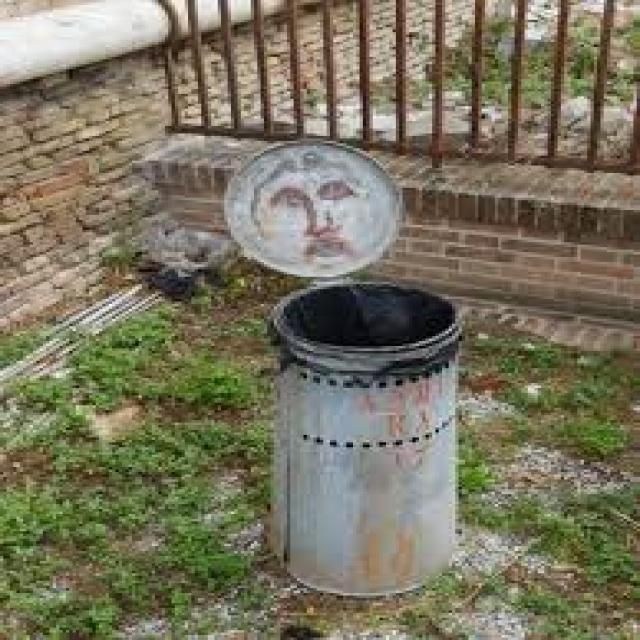-: (244, 148, 366, 262), (358, 384, 434, 467)
